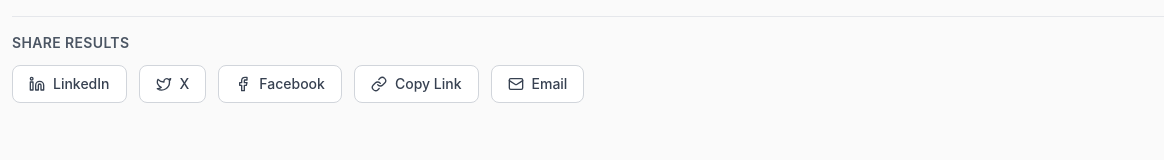
Test: SharePanel › displays error message when createShare fails
Click the button with test id "share-linkedin" at (69, 84), box [12,65,126,103]
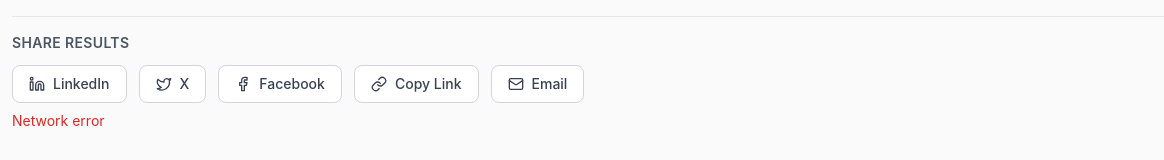
Now the text with test id "share-error" reads "Network error", box [12,112,105,129]
